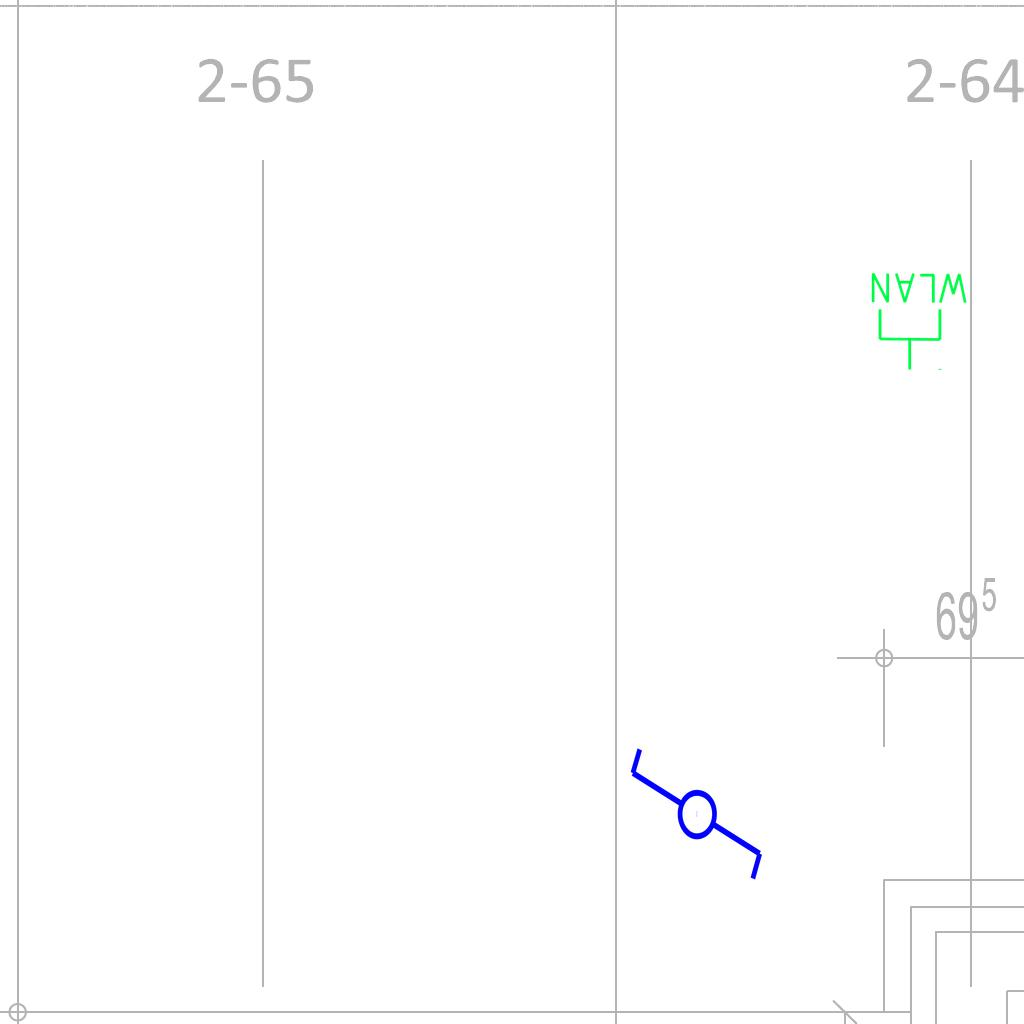WLAN: (867, 269, 972, 373)
Wechselschalter: (623, 744, 767, 901)
